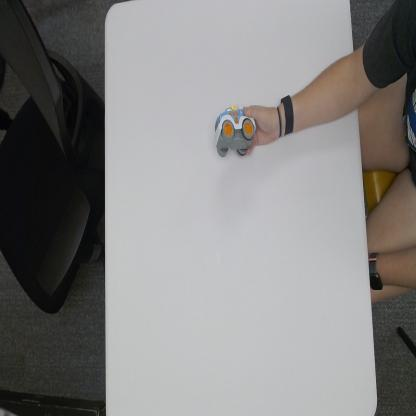Arm: (294, 54, 358, 126)
Car: (213, 101, 256, 158)
Hand: (244, 102, 281, 155)
